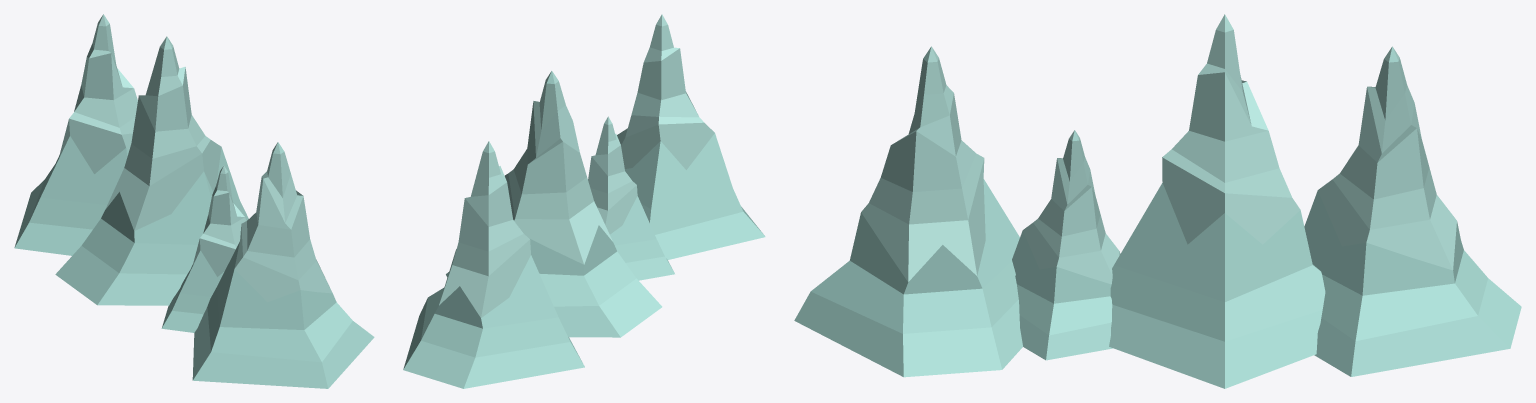
Rendered from MountainSet.fbx.
3 views of the same model, side by side, from view 1: azimuth 30°, elevation 25°; view 2: azimuth 150°, elevation 25°; view 3: azimuth 270°, elevation 25° (orthographic). The views are drawn at different scales.
Visible parts, largest first — view 1: Mountain_Set; view 2: Mountain_Set; view 3: Mountain_Set.
Part boxes in pixels (box(x1,y1,x2,y2)): Mountain_Set: box(14, 14, 374, 388); Mountain_Set: box(403, 14, 765, 388); Mountain_Set: box(794, 14, 1521, 388).
Bounding box in the file's own units: 152 × 167 × 358.
